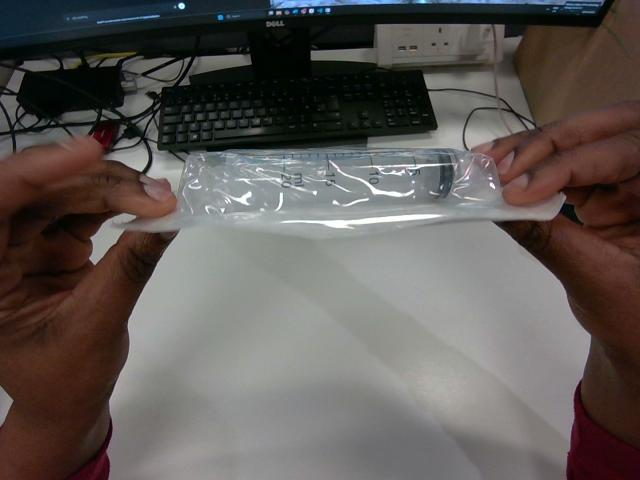syringe: (125, 148, 563, 237)
